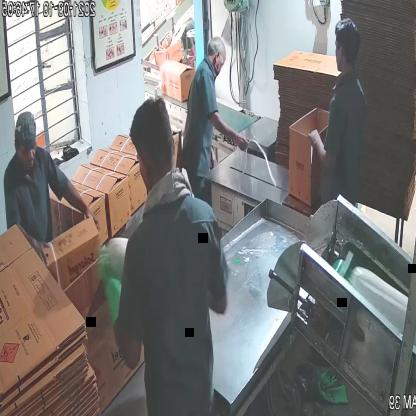no_glove: (198, 104, 258, 160), (66, 166, 99, 235), (300, 123, 338, 173)
